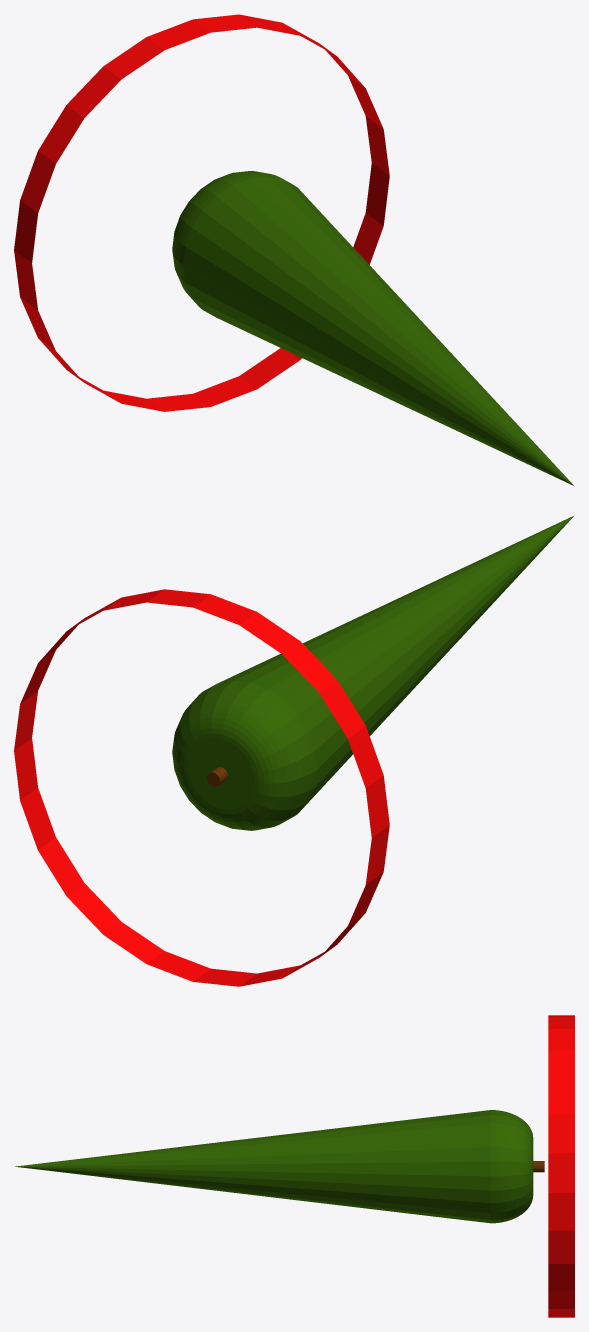
File: HPKKo14m.obj
The picture shows the model from 3 angles, top to bottom: view 1: azimuth 30°, elevation 25°; view 2: azimuth 150°, elevation 25°; view 3: azimuth 270°, elevation 25°; orthographic projection. The views are drawn at different scales.
Size of the model in its own units: 8 by 8 by 14.8.
